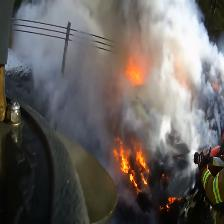fire: (97, 128, 208, 208), (121, 55, 149, 86)
smoke: (9, 0, 224, 141)
